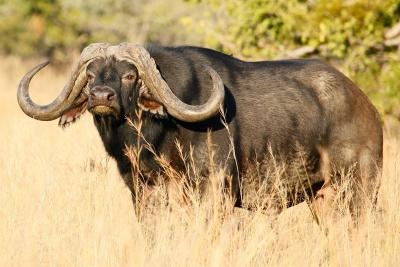buffalo: (17, 43, 382, 211)
